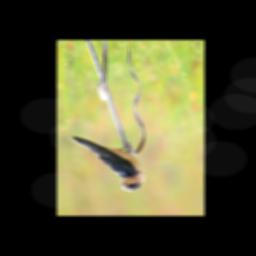Swallow: (65, 133, 146, 195)
